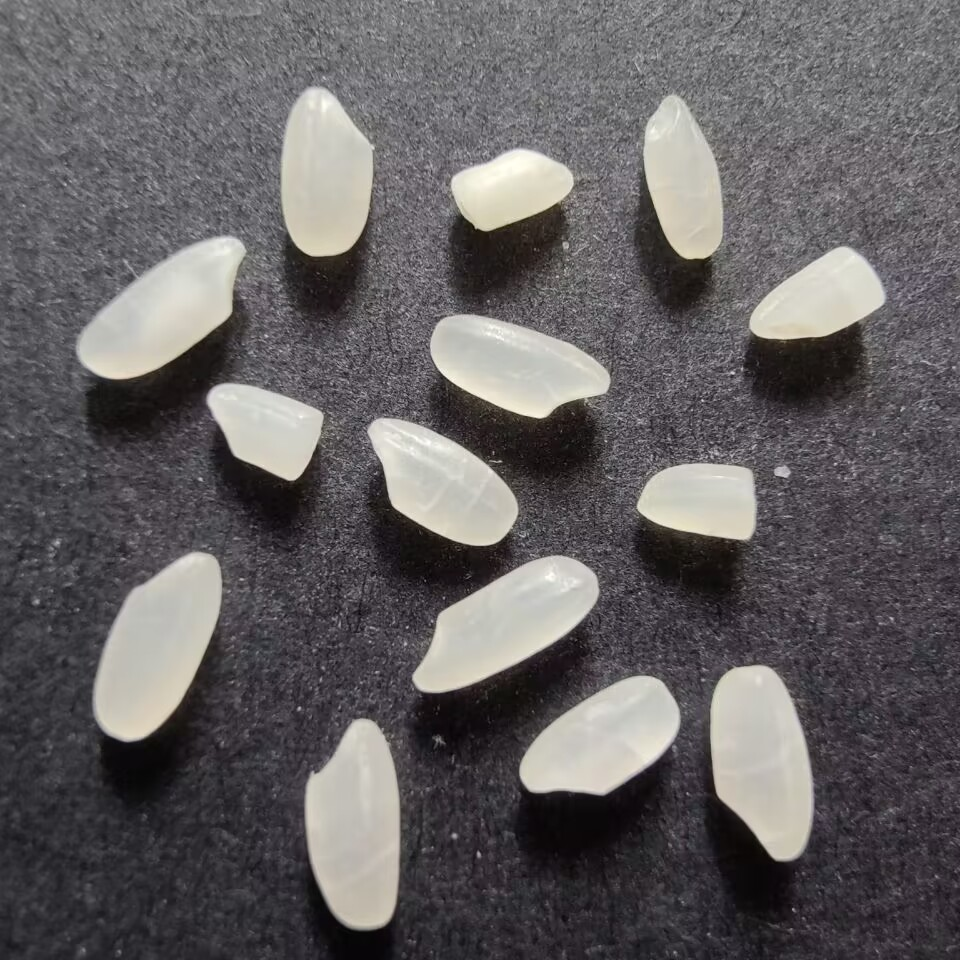broken: (747, 240, 893, 345), (201, 377, 325, 484), (448, 146, 577, 236), (637, 456, 763, 544)
rice: (406, 553, 603, 695), (73, 231, 248, 385), (91, 547, 226, 745), (299, 713, 405, 933), (705, 662, 815, 867), (362, 414, 520, 552), (425, 309, 615, 420), (516, 674, 682, 799), (277, 81, 378, 263), (639, 90, 727, 263)
